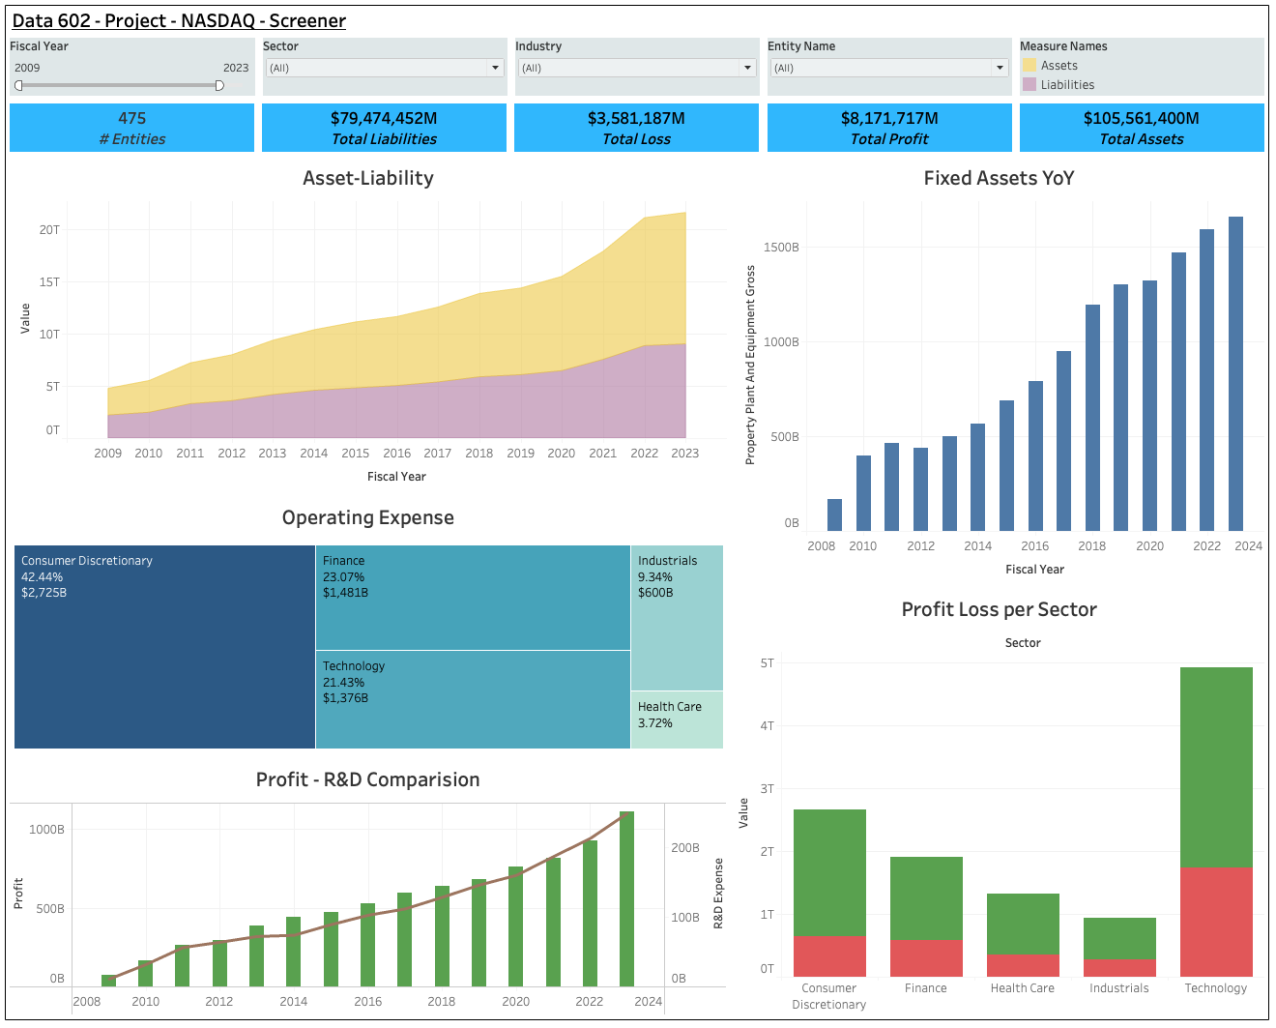

What the dashboard file says about the page in this screenshot:
{"tool":"tableau","page":{"name":"602 DS Project SEC_NASDAQ","canvas":[1000,1000],"units":"permille","ordinal":0},"visuals":[{"type":"text","box":[2.9,6.7,994.3,19.9]},{"type":"filter","title":"Avg Profit","param":"[federated.128kh011eubrxs1fdu40l1gfndij].[none:Fiscal Year:qk]","box":[2.8,26.7,165.9,46.7]},{"type":"filter","title":"Avg Asset","param":"[federated.128kh011eubrxs1fdu40l1gfndij].[none:Sector:nk]","box":[168.8,26.7,165.9,46.7]},{"type":"filter","title":"Avg Asset","param":"[federated.128kh011eubrxs1fdu40l1gfndij].[none:Industry:nk]","box":[334.7,26.7,165.6,46.7]},{"type":"filter","title":"Avg Asset","param":"[federated.128kh011eubrxs1fdu40l1gfndij].[none:entityName:nk]","box":[500.3,26.7,165.6,46.7]},{"type":"filter","title":"Summary","param":"[federated.1uynard0fahcuj18up5il0lq0ml4].[none:Summary type:nk]","box":[665.9,26.7,165.6,46.7]},{"type":"legend","title":"Asset-Liability","param":"[federated.128kh011eubrxs1fdu40l1gfndij].[:Measure Names]","box":[831.5,26.7,165.6,46.7]},{"type":"worksheet","title":"#Entities","mark":"Automatic","box":[2.9,73.3,198.9,39.7]},{"type":"worksheet","title":"Avg Liabilities","mark":"Area","box":[201.7,73.3,198.9,39.7]},{"type":"worksheet","title":"Avg Loss","mark":"Area","box":[400.6,73.3,198.9,39.7]},{"type":"worksheet","title":"Avg Profit","mark":"Area","box":[599.4,73.3,198.9,39.7]},{"type":"worksheet","title":"Avg Asset","mark":"Area","box":[798.3,73.3,198.9,39.7]},{"type":"worksheet","title":"Asset-Liability","mark":"Area","cols":["Fiscal Year"],"box":[2.9,113,570.7,240.6]},{"type":"worksheet","title":"Fixed Assets YoY (2)","mark":"Bar","rows":["PropertyPlantAndEquipmentGross"],"cols":["Fiscal Year"],"box":[573.6,113,423.6,305.9]},{"type":"worksheet","title":"Operating Expense","mark":"Automatic","box":[2.9,353.6,570.7,185.6]},{"type":"worksheet","title":"R&D Profit (2)","mark":"Bar","cols":["Sector"],"box":[573.6,418.9,423.6,306.2]},{"type":"worksheet","title":"R&D Profit","mark":"Automatic","rows":["GrossProfit","ResearchAndDevelopmentExpense"],"cols":["Fiscal Year"],"box":[2.9,539.2,570.7,185.9]},{"type":"worksheet","title":"Summary","mark":"Automatic","rows":["entityName"],"cols":["Summary type"],"box":[2.5,725.8,994.9,268.2]}]}

Visuals, with their boxes on the dashboard's canvas, which has no fixed pixel size, in thousandths of its width and height (x1, y1, x2, y2). These are canvas units, not pixel positions in the 1276x1028 screenshot, which may show the page scaled, cropped or inside an application window:
text: 3 7 997 27
"Avg Profit" filter: 3 27 169 73
"Avg Asset" filter: 169 27 335 73
"Avg Asset" filter: 335 27 500 73
"Avg Asset" filter: 500 27 666 73
"Summary" filter: 666 27 832 73
"Asset-Liability" legend: 832 27 997 73
"#Entities" worksheet: 3 73 202 113
"Avg Liabilities" worksheet (Area marks): 202 73 401 113
"Avg Loss" worksheet (Area marks): 401 73 600 113
"Avg Profit" worksheet (Area marks): 599 73 798 113
"Avg Asset" worksheet (Area marks): 798 73 997 113
"Asset-Liability" worksheet (Area marks): 3 113 574 354
"Fixed Assets YoY (2)" worksheet (Bar marks): 574 113 997 419
"Operating Expense" worksheet: 3 354 574 539
"R&D Profit (2)" worksheet (Bar marks): 574 419 997 725
"R&D Profit" worksheet: 3 539 574 725
"Summary" worksheet: 2 726 997 994
